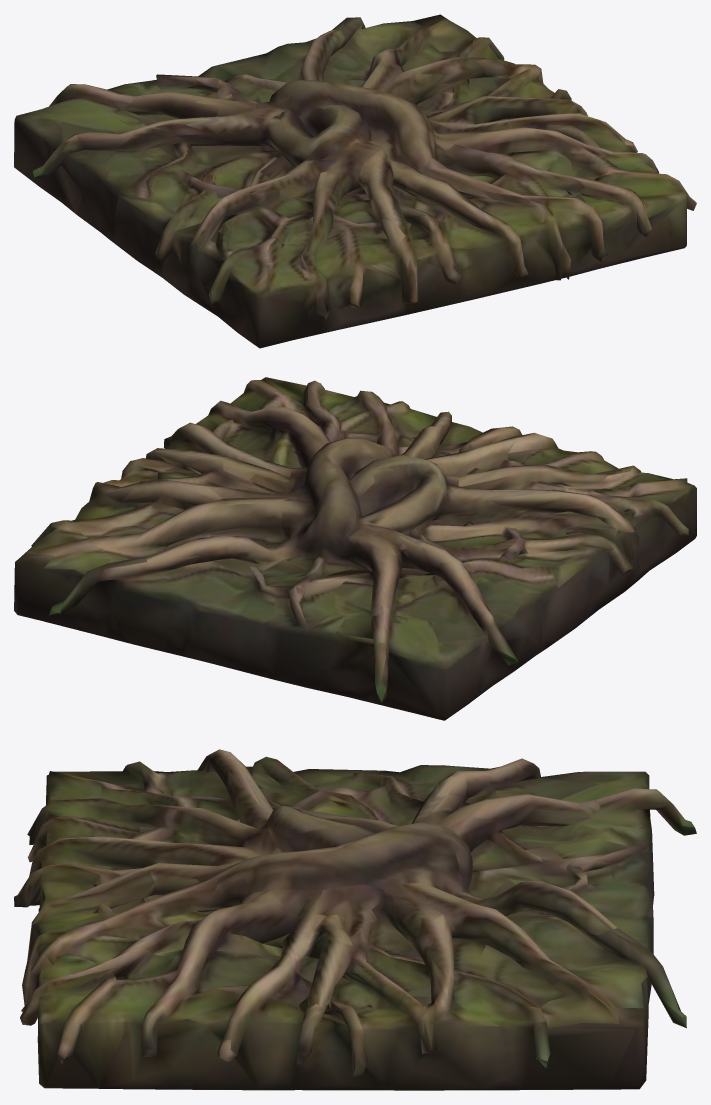
Rendered from f12_chao_raizes.glb.
3 views of the same model, one above another, from view 1: azimuth 30°, elevation 25°; view 2: azimuth 150°, elevation 25°; view 3: azimuth 270°, elevation 25° (orthographic). The views are drawn at different scales.
Parts seen in each view (by area): view 1: f12_chao_raizes; view 2: f12_chao_raizes; view 3: f12_chao_raizes.
Boxes of the visible parts, x1,y1,x2,y2 form: f12_chao_raizes: [14, 14, 696, 348]; f12_chao_raizes: [14, 377, 696, 720]; f12_chao_raizes: [14, 749, 696, 1090].
Size of the model in its own units: 0.9844 by 0.2198 by 1.01.
Materials: 1 (1 with a texture image).
